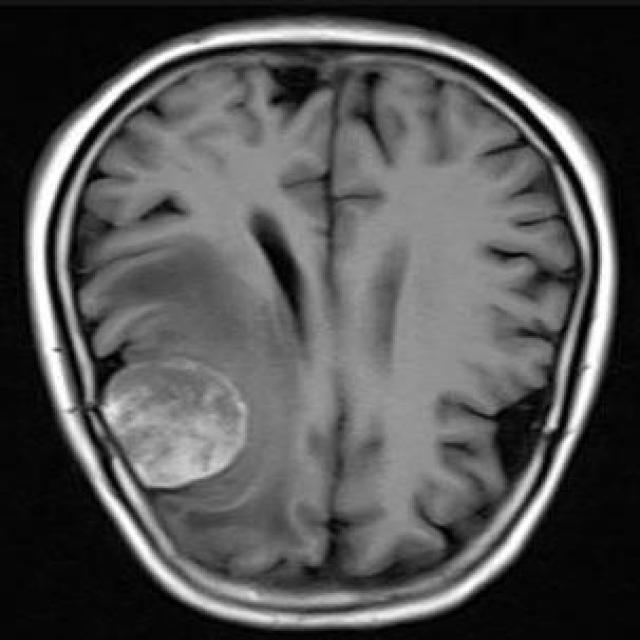Tumor: (100, 348, 270, 497)
